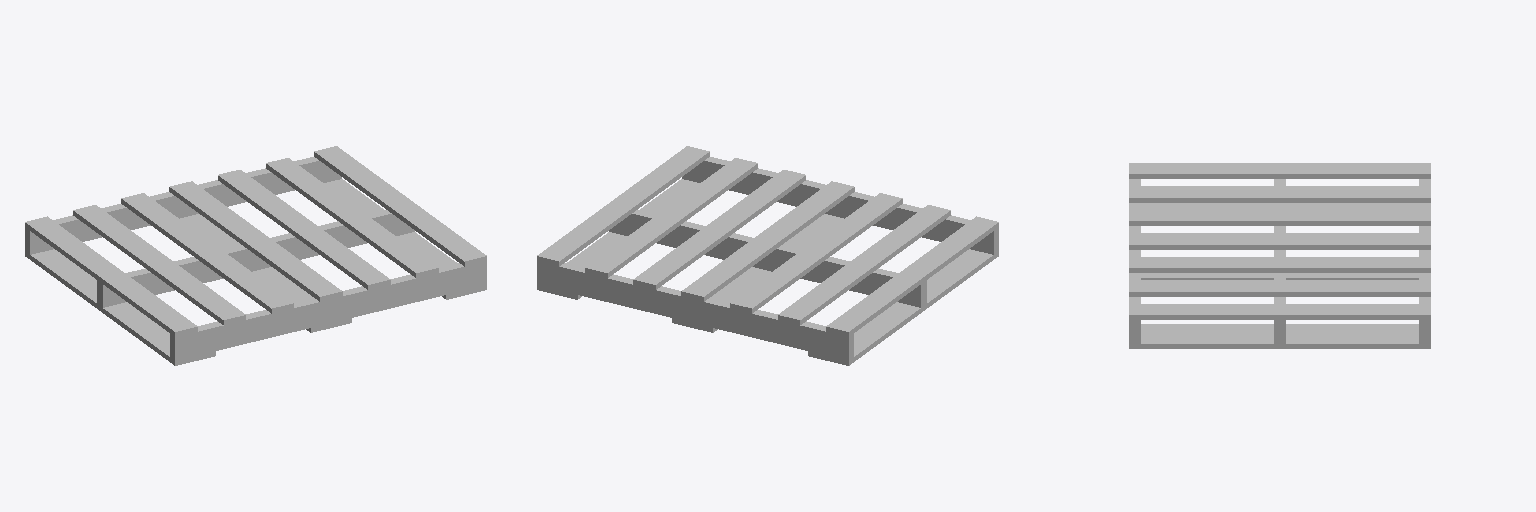
The model's file is pallet.obj.
3 views of the same model, side by side, from view 1: azimuth 30°, elevation 25°; view 2: azimuth 150°, elevation 25°; view 3: azimuth 270°, elevation 25° (orthographic).
Visible parts, largest first — view 1: Plank_Cube.002, Beam_Cube.001, Base_Cube.004; view 2: Plank_Cube.002, Beam_Cube.001, Base_Cube.004; view 3: Plank_Cube.002, Base_Cube.004, Beam_Cube.001.
Boxes of the visible parts, x1,y1,x2,y2 form: Plank_Cube.002: [25, 146, 486, 336]; Beam_Cube.001: [25, 157, 486, 360]; Base_Cube.004: [25, 179, 486, 365]; Plank_Cube.002: [537, 146, 998, 336]; Beam_Cube.001: [537, 157, 998, 360]; Base_Cube.004: [537, 179, 998, 365]; Plank_Cube.002: [1129, 163, 1430, 319]; Base_Cube.004: [1129, 203, 1430, 348]; Beam_Cube.001: [1129, 179, 1430, 343].
Size of the model in its own units: 1.22 by 0.127 by 1.02.